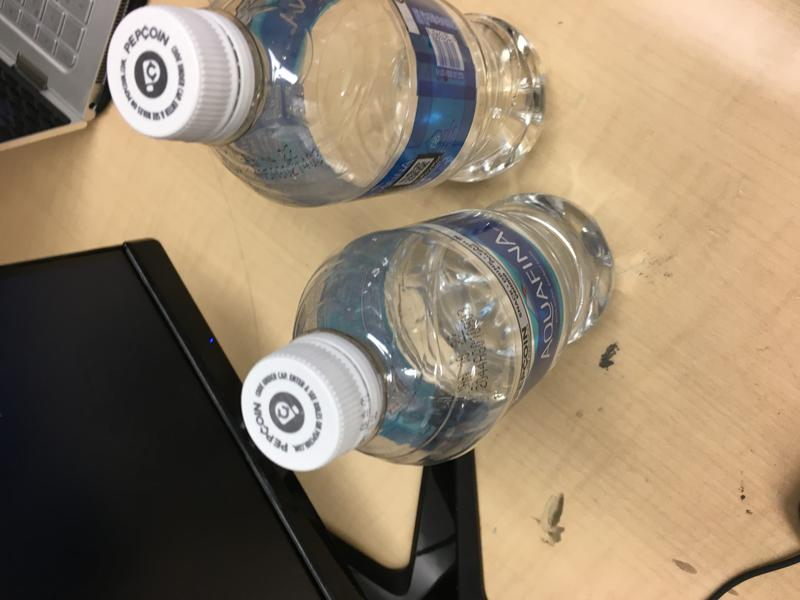bottle: (241, 191, 616, 473), (102, 1, 549, 209)
